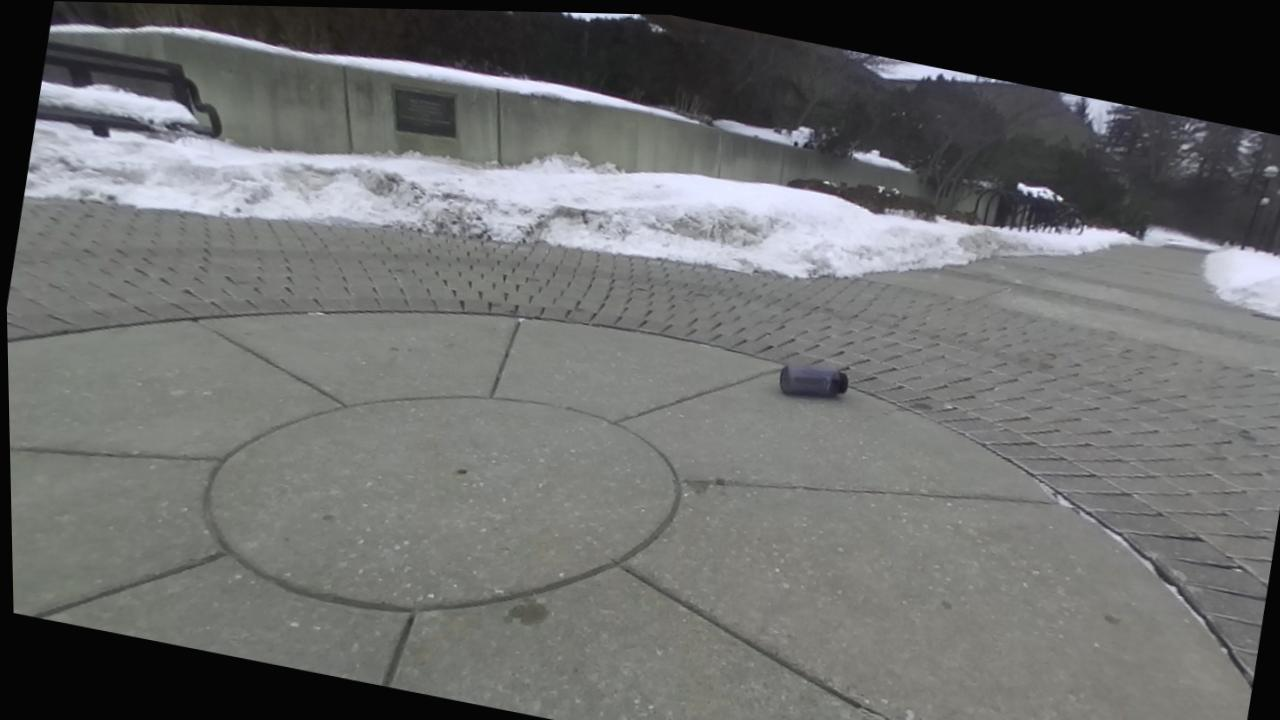bottle: (779, 365, 847, 396)
